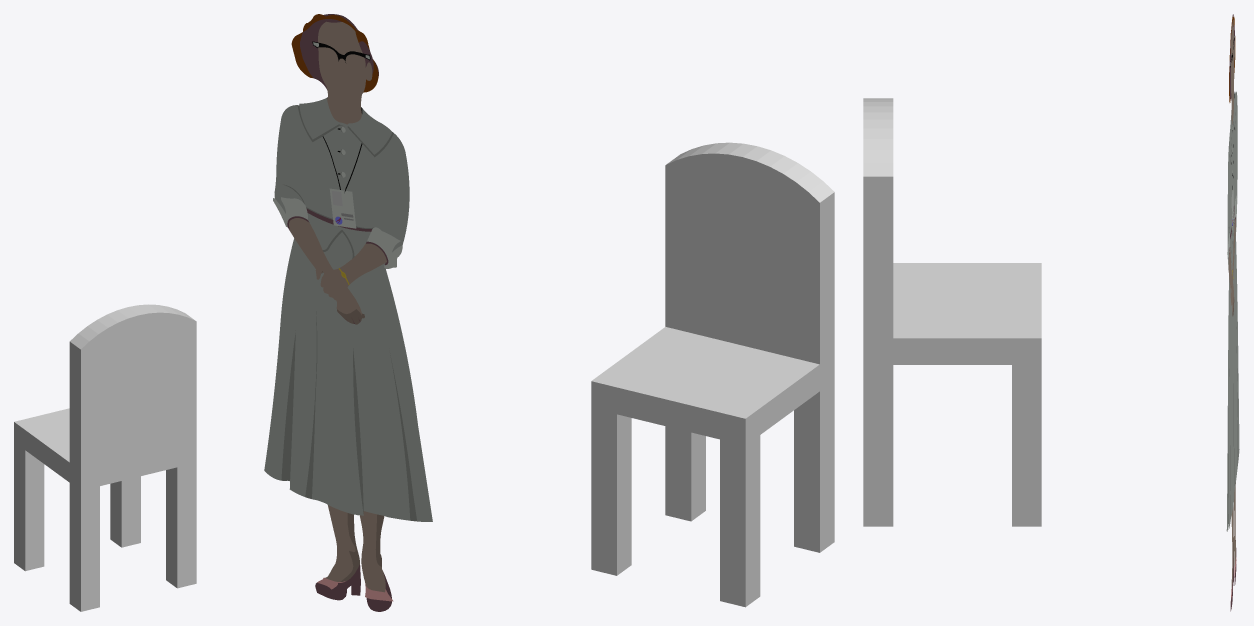
File: ChairAssignment1.glb
The picture shows the model from 3 angles, left to right: view 1: azimuth 30°, elevation 25°; view 2: azimuth 150°, elevation 25°; view 3: azimuth 270°, elevation 25°; orthographic projection. The views are drawn at different scales.
Parts seen in each view (by area): view 1: Model; view 2: Model, Katherine_; view 3: Model, Katherine_.
Part boxes in pixels (box(x1,y1,x2,y2)): Model: box(14, 304, 196, 611); Model: box(591, 142, 834, 607); Katherine_: box(264, 14, 432, 611); Model: box(863, 98, 1041, 526); Katherine_: box(1226, 14, 1239, 611).
Size of the model in its own units: 45.32 by 65.34 by 37.99.
